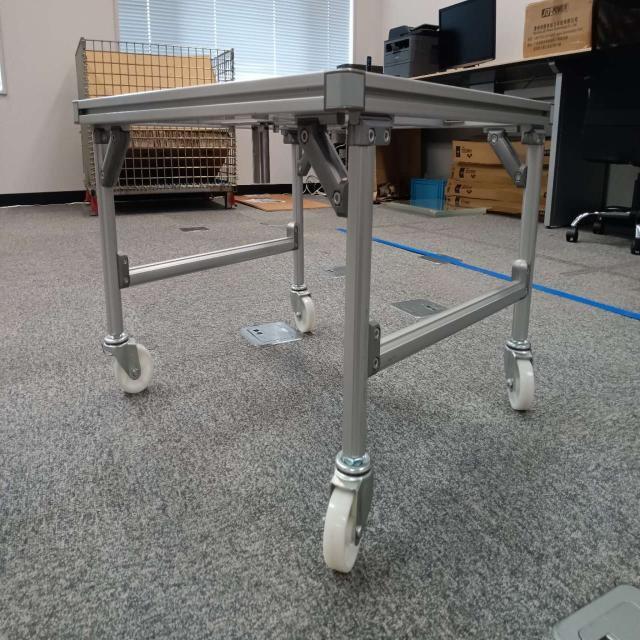door: (97, 68, 365, 216)
side: (359, 68, 552, 371)
